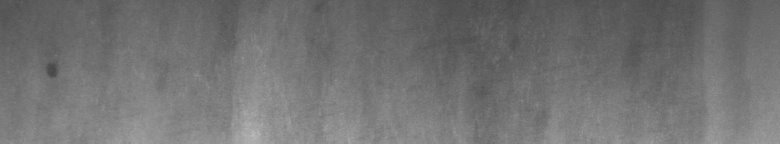fi: (44, 55, 64, 84)
